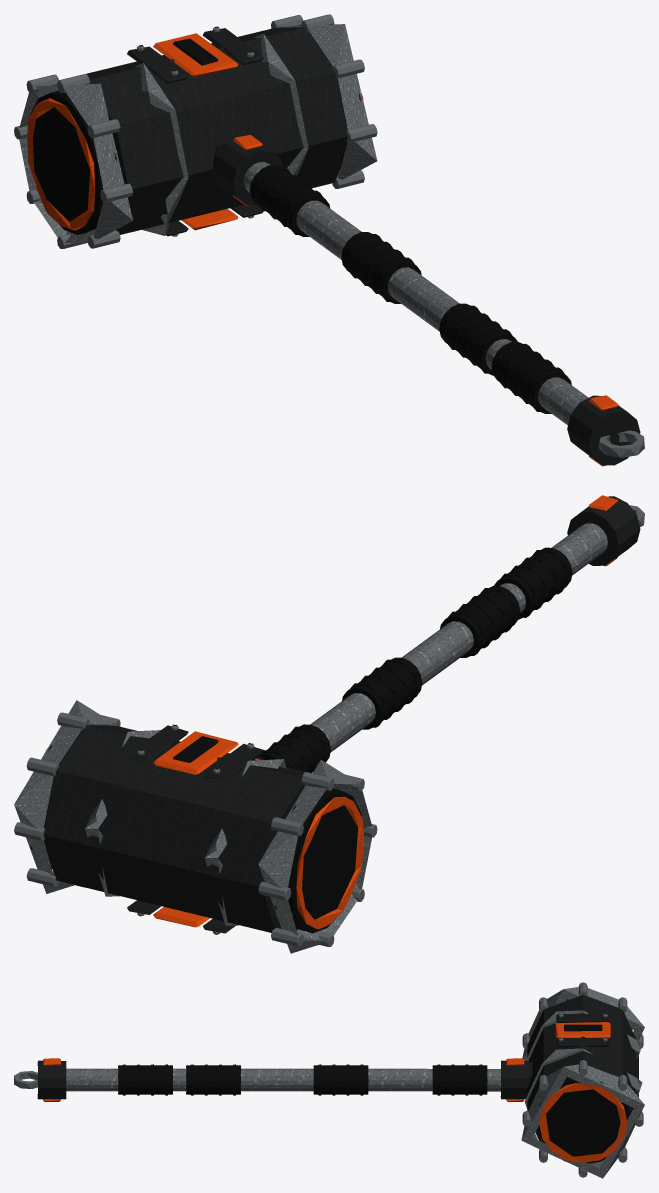
File: impulse-hammer-long-grip-lod1.glb
3 views of the same model, one above another, from view 1: azimuth 30°, elevation 25°; view 2: azimuth 150°, elevation 25°; view 3: azimuth 270°, elevation 25° (orthographic). The views are drawn at different scales.
Parts seen in each view (by area): view 1: Octagonal impulse housing, Machined central haft, Recessed striking plate, Heavy endcap steel cage, Heavy endcap steel cage.001, Locking haft joint, Locking haft joint.001, Rubber impact grip sleeve.002, Rubber impact grip sleeve.003, Rubber impact grip sleeve, Endcap orange indicator lip, Rubber impact grip sleeve.001 (+7 smaller); view 2: Octagonal impulse housing, Machined central haft, Recessed striking plate, Heavy endcap steel cage, Heavy endcap steel cage.001, Locking haft joint, Endcap orange indicator lip, Rubber impact grip sleeve.002, Rubber impact grip sleeve.001, Rubber impact grip sleeve, Rubber impact grip sleeve.003, Central orange service panel.001 (+5 smaller); view 3: Machined central haft, Octagonal impulse housing, Recessed striking plate.001, Heavy endcap steel cage.001, Endcap orange indicator lip.001, Rubber impact grip sleeve.002, Rubber impact grip sleeve.003, Rubber impact grip sleeve.001, Rubber impact grip sleeve, Heavy endcap steel cage, Locking haft joint, Locking haft joint.001 (+6 smaller).
Part boxes in pixels (bbox=[...]): Octagonal impulse housing: bbox=[86, 27, 347, 234]; Machined central haft: bbox=[243, 162, 588, 425]; Recessed striking plate: bbox=[30, 91, 116, 234]; Heavy endcap steel cage: bbox=[19, 83, 132, 243]; Heavy endcap steel cage.001: bbox=[278, 24, 377, 179]; Locking haft joint: bbox=[567, 395, 640, 465]; Locking haft joint.001: bbox=[213, 135, 283, 204]; Rubber impact grip sleeve.002: bbox=[341, 232, 421, 303]; Rubber impact grip sleeve.003: bbox=[250, 165, 330, 236]; Rubber impact grip sleeve: bbox=[491, 342, 571, 413]; Endcap orange indicator lip: bbox=[27, 98, 94, 230]; Rubber impact grip sleeve.001: bbox=[439, 303, 517, 375]; Octagonal impulse housing: bbox=[44, 725, 305, 932]; Machined central haft: bbox=[310, 523, 607, 752]; Recessed striking plate: bbox=[274, 788, 361, 933]; Heavy endcap steel cage: bbox=[258, 760, 371, 953]; Heavy endcap steel cage.001: bbox=[14, 700, 113, 893]; Locking haft joint: bbox=[567, 496, 640, 565]; Endcap orange indicator lip: bbox=[296, 796, 364, 929]; Rubber impact grip sleeve.002: bbox=[342, 657, 422, 729]; Rubber impact grip sleeve.001: bbox=[440, 586, 520, 657]; Rubber impact grip sleeve: bbox=[494, 547, 572, 619]; Rubber impact grip sleeve.003: bbox=[258, 724, 330, 772]; Central orange service panel.001: bbox=[153, 731, 238, 774]; Machined central haft: bbox=[66, 1068, 500, 1091]; Octagonal impulse housing: bbox=[527, 995, 638, 1141]; Recessed striking plate.001: bbox=[537, 1077, 630, 1163]; Heavy endcap steel cage.001: bbox=[521, 1064, 644, 1178]; Endcap orange indicator lip.001: bbox=[539, 1083, 627, 1162]; Rubber impact grip sleeve.002: bbox=[313, 1065, 368, 1094]; Rubber impact grip sleeve.003: bbox=[432, 1065, 487, 1094]; Rubber impact grip sleeve.001: bbox=[186, 1065, 240, 1094]; Rubber impact grip sleeve: bbox=[118, 1065, 172, 1094]; Heavy endcap steel cage: bbox=[522, 987, 644, 1060]; Locking haft joint: bbox=[37, 1060, 66, 1099]; Locking haft joint.001: bbox=[500, 1060, 529, 1099].
Bounding box in the file's own units: 0.482 × 0.2909 × 1.49.
4 materials, 4 textured.
